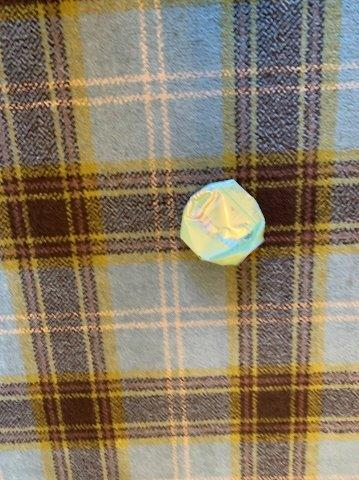kaleng: (180, 180, 264, 264)
